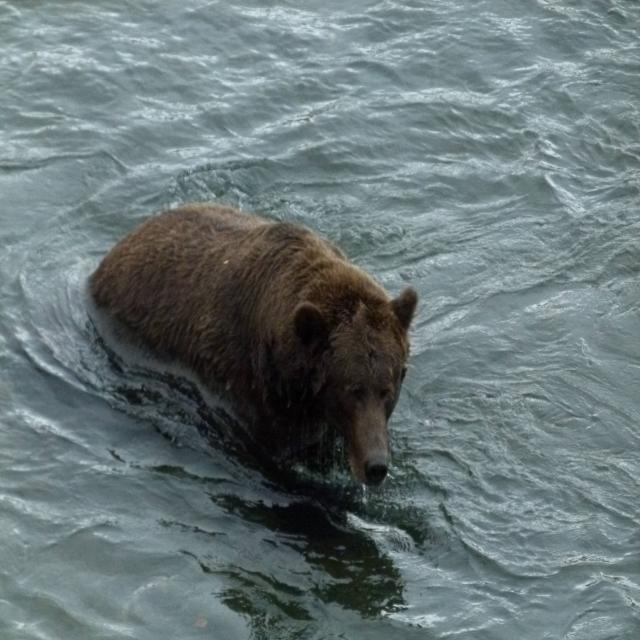bear face: (93, 204, 418, 488)
